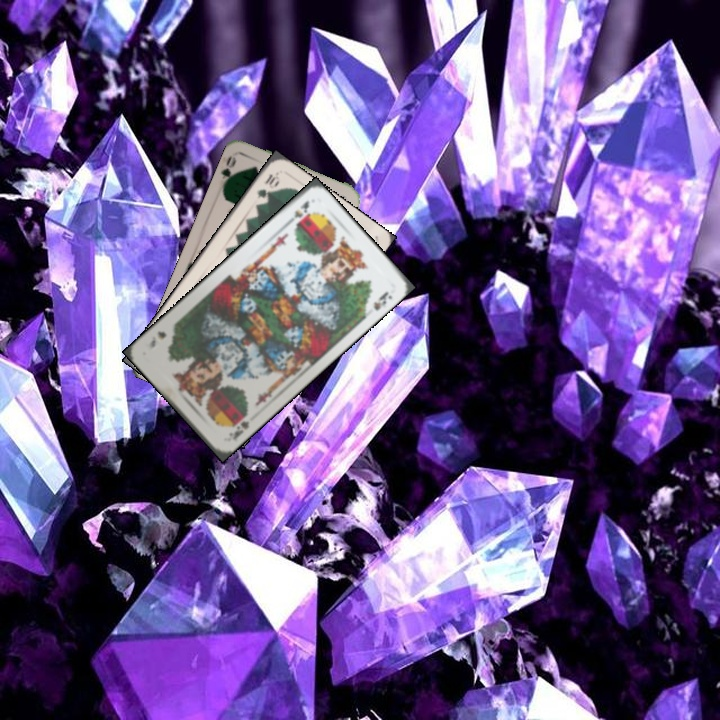G10: (253, 169, 282, 202)
GO: (217, 152, 240, 191)
SK: (282, 196, 312, 228), (225, 417, 252, 443)
